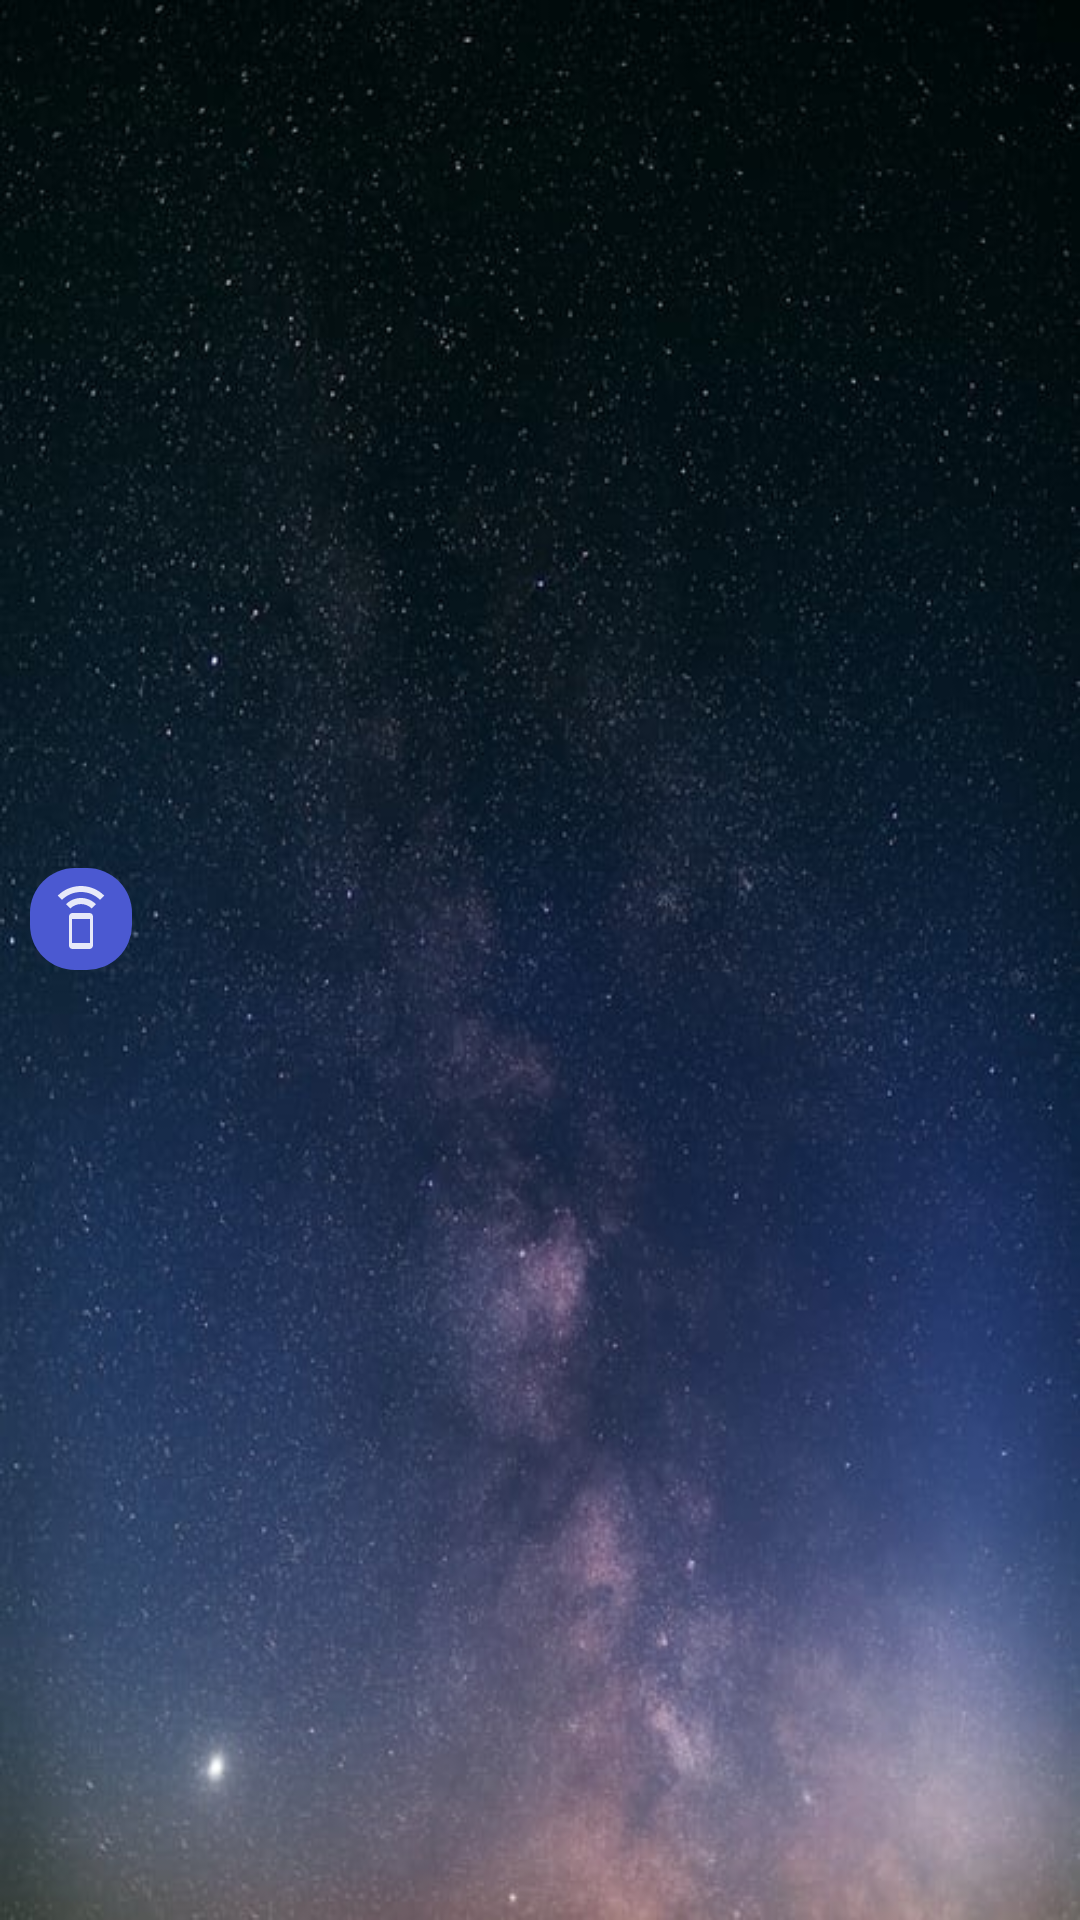

Icon bounding boxes for this 1080×1920 phone screenshot, format bbox(x1, y1, x2, y2):
speaker phone: bbox(30, 868, 132, 970)
